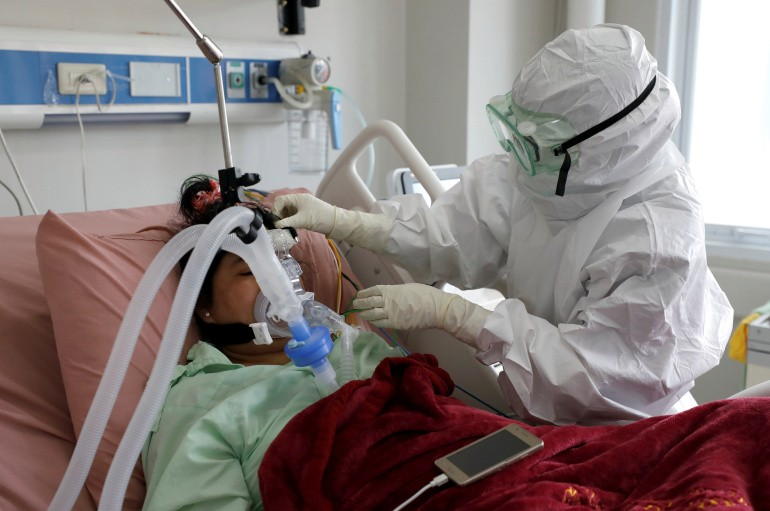Coverall: (394, 16, 736, 481)
Gloves: (352, 281, 490, 348), (272, 192, 391, 254)
Goggles: (480, 94, 585, 177)
with_mask: (513, 131, 572, 220)
